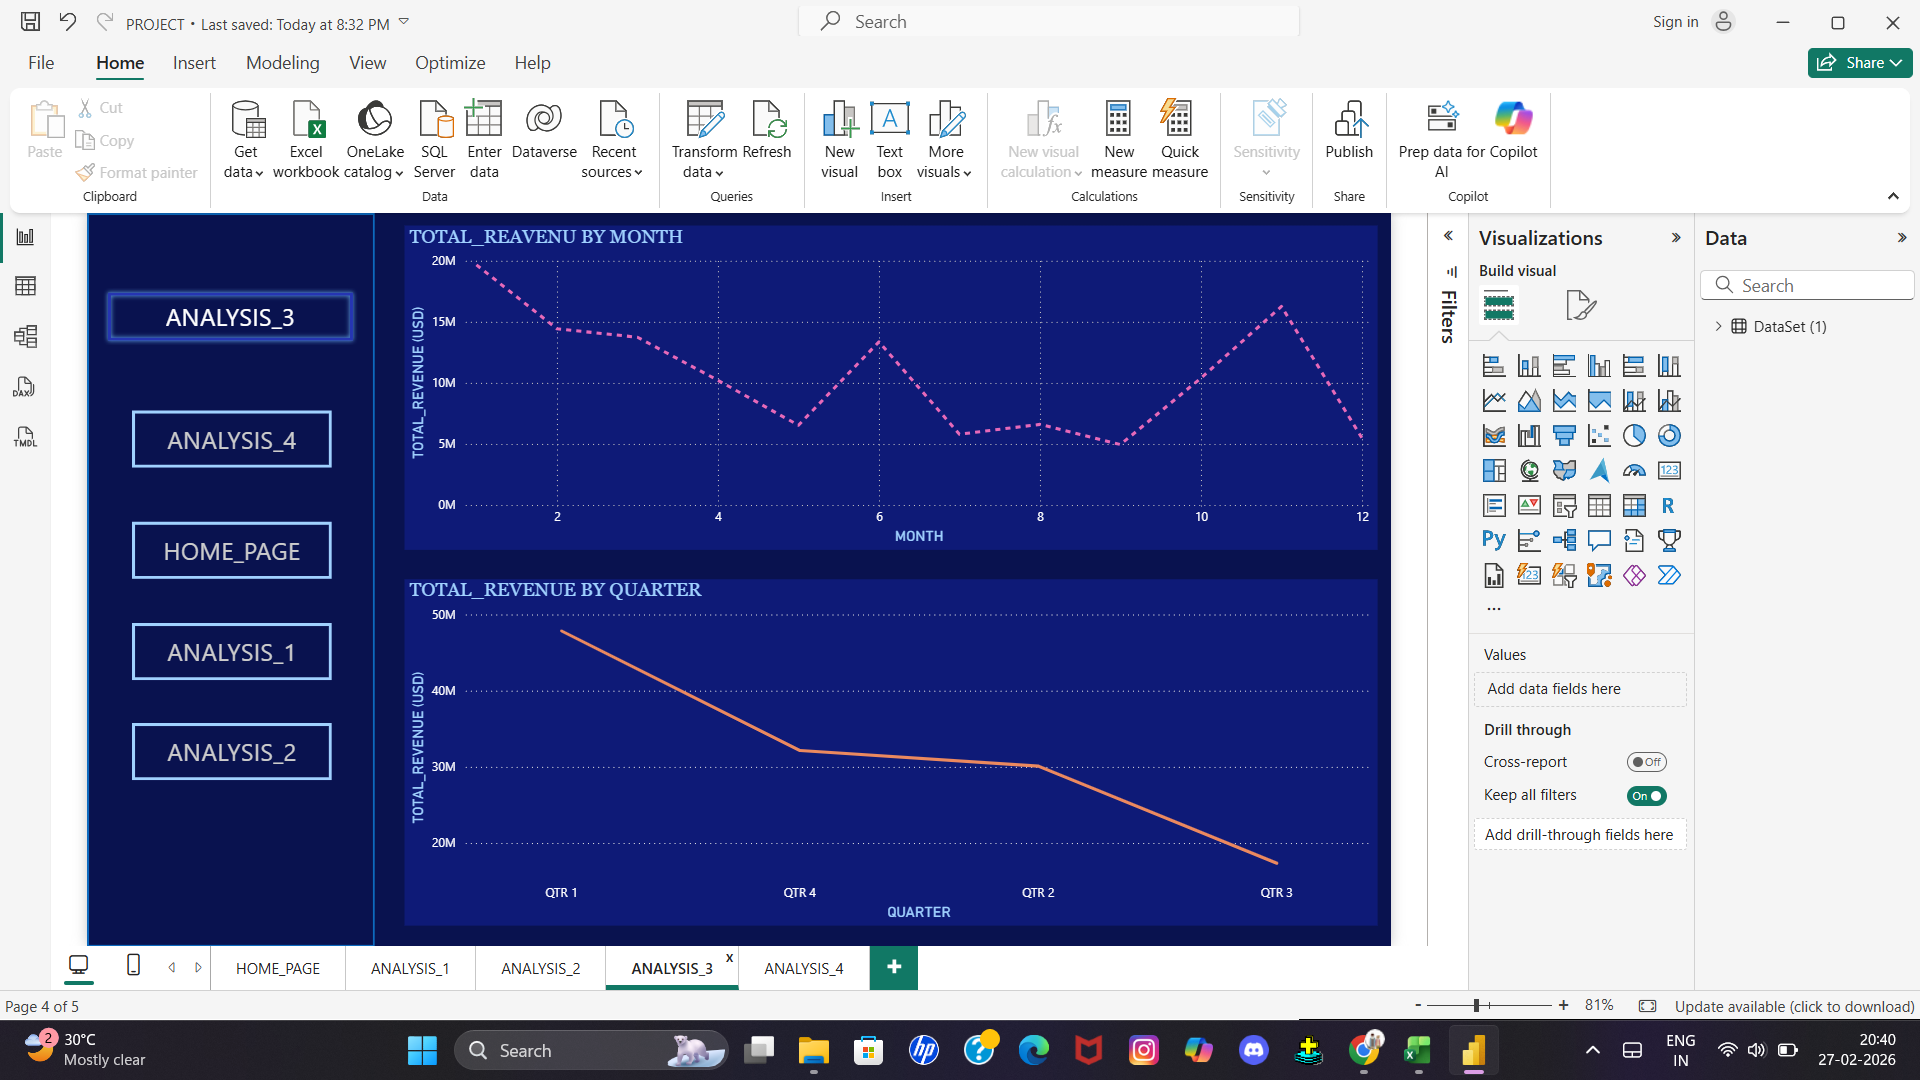

What the dashboard file says about the page in this screenshot:
{"tool":"powerbi","page":{"name":"ANALYSIS_3","canvas":[1280,720],"ordinal":3},"visuals":[{"type":"shape","box":[0,0,282.7,720.4],"z":0},{"type":"actionButton","box":[43.9,303.3,196.2,56.3],"z":1000},{"type":"actionButton","box":[16.5,74.1,249.7,56.3],"z":2000},{"type":"actionButton","box":[43.9,500.9,196.2,56.3],"z":3000},{"type":"actionButton","box":[43.9,193.5,196.2,56.3],"z":4000},{"type":"actionButton","box":[43.9,402.1,196.2,56.3],"z":5000},{"type":"lineChart","title":"TOTAL_REAVENU BY MONTH","fields":{"Y":["Sum(DataSet (1).Revenue (USD))"],"Category":["DataSet (1).Month"]},"box":[311.5,12.3,955.1,318.4],"z":6000},{"type":"lineChart","title":"TOTAL_REVENUE BY QUARTER","fields":{"Y":["Sum(DataSet (1).Revenue (USD))"],"Category":["DataSet (1).Quarter"]},"box":[311.5,359.5,955.1,340.3],"z":7000}]}

Visuals, with their boxes on the page's 1280x720 design canvas (x1, y1, x2, y2). These are canvas units, not pixel positions in the 1920x1080 screenshot, which may show the page scaled, cropped or inside an application window:
shape: [0,0,283,720]
actionButton: [44,303,240,360]
actionButton: [16,74,266,130]
actionButton: [44,501,240,557]
actionButton: [44,194,240,250]
actionButton: [44,402,240,458]
"TOTAL_REAVENU BY MONTH" lineChart: [312,12,1267,331]
"TOTAL_REVENUE BY QUARTER" lineChart: [312,360,1267,700]
